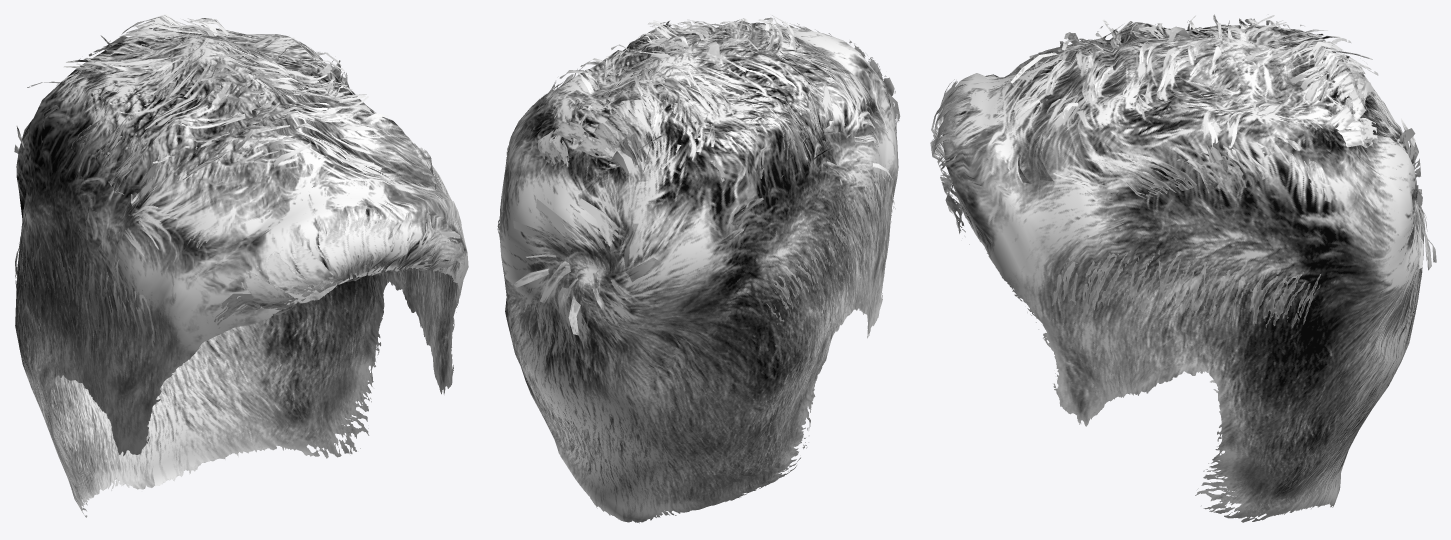
Rendered from spiky.glb.
3 renders of one model, left to right at view 1: azimuth 30°, elevation 25°; view 2: azimuth 150°, elevation 25°; view 3: azimuth 270°, elevation 25°, orthographic. The views are drawn at different scales.
Visible parts, largest first — view 1: spiky; view 2: spiky; view 3: spiky.
Part boxes in pixels (box(x1,y1,x2,y2)): spiky: box(14, 14, 468, 517); spiky: box(497, 15, 900, 523); spiky: box(930, 14, 1436, 522).
Size of the model in its own units: 0.1538 by 0.2106 by 0.2061.
Materials: 1 (1 with a texture image).
